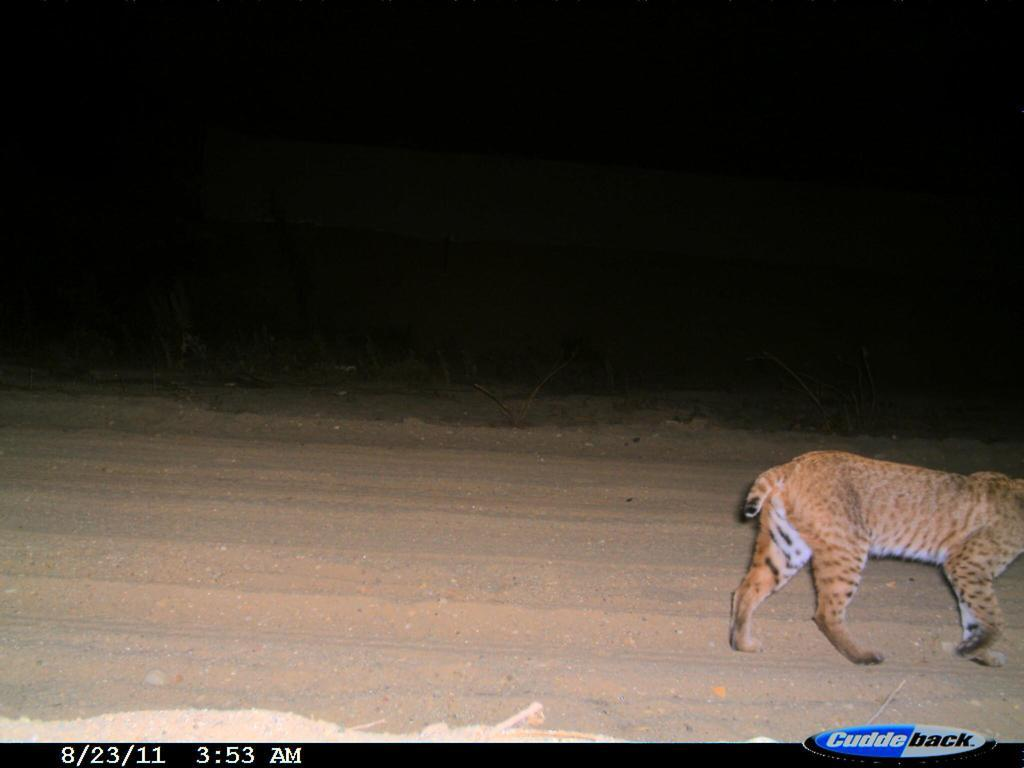bobcat: (730, 428, 1023, 680)
